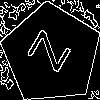Z: (26, 28, 81, 79)
